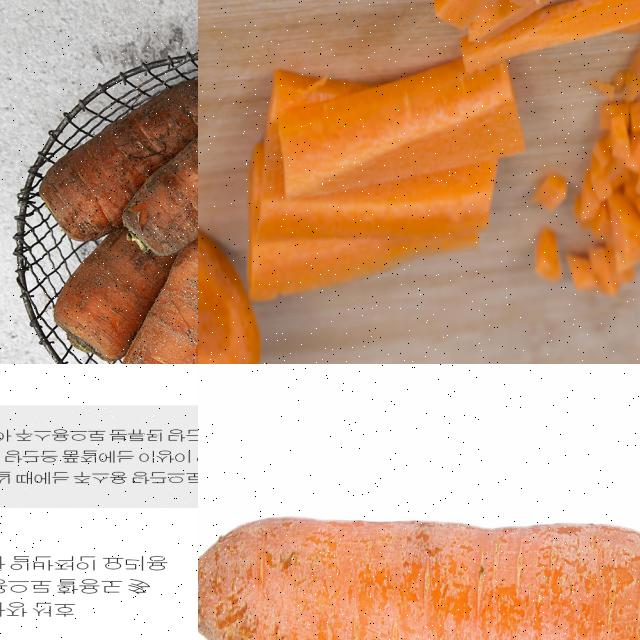carrot: (232, 42, 537, 321), (198, 479, 639, 639), (283, 0, 639, 100), (38, 73, 197, 243), (110, 109, 197, 363), (56, 226, 176, 362), (123, 94, 197, 258)
